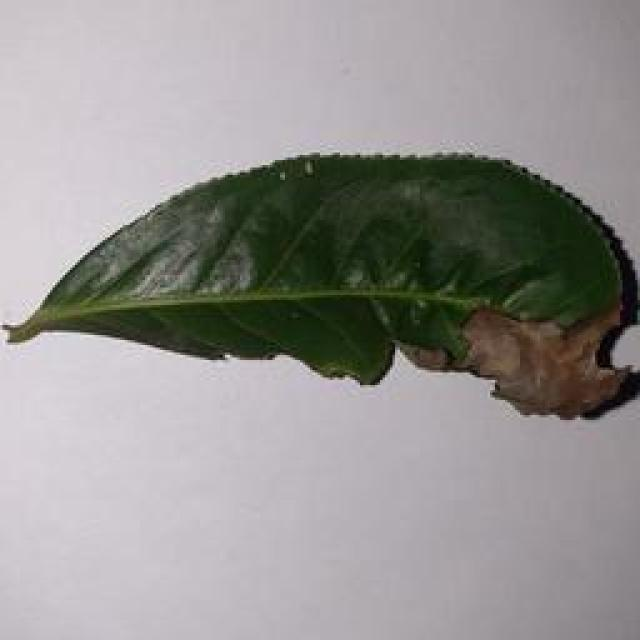Brown Blight: (0, 153, 640, 447)
